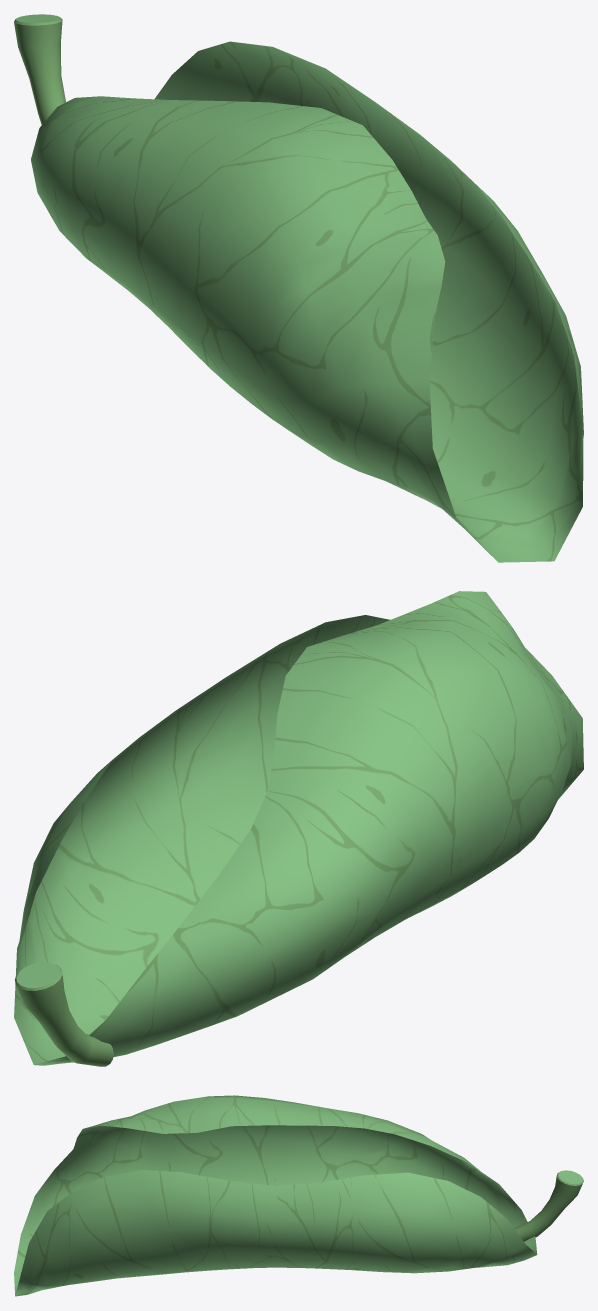
Rendered from Mesh_Home_RF_Leaf_08_SM.fbx.
3 views of the same model, one above another, from view 1: azimuth 30°, elevation 25°; view 2: azimuth 150°, elevation 25°; view 3: azimuth 270°, elevation 25° (orthographic). The views are drawn at different scales.
Parts seen in each view (by area): view 1: Mesh_Home_RF_Leaf_08; view 2: Mesh_Home_RF_Leaf_08; view 3: Mesh_Home_RF_Leaf_08.
Boxes of the visible parts, x1,y1,x2,y2 form: Mesh_Home_RF_Leaf_08: (14,14,583,562); Mesh_Home_RF_Leaf_08: (14,591,583,1066); Mesh_Home_RF_Leaf_08: (14,1095,583,1296).
Bounding box in the file's own units: 1042 × 994 × 2941.
Materials: 1 (1 with a texture image).
